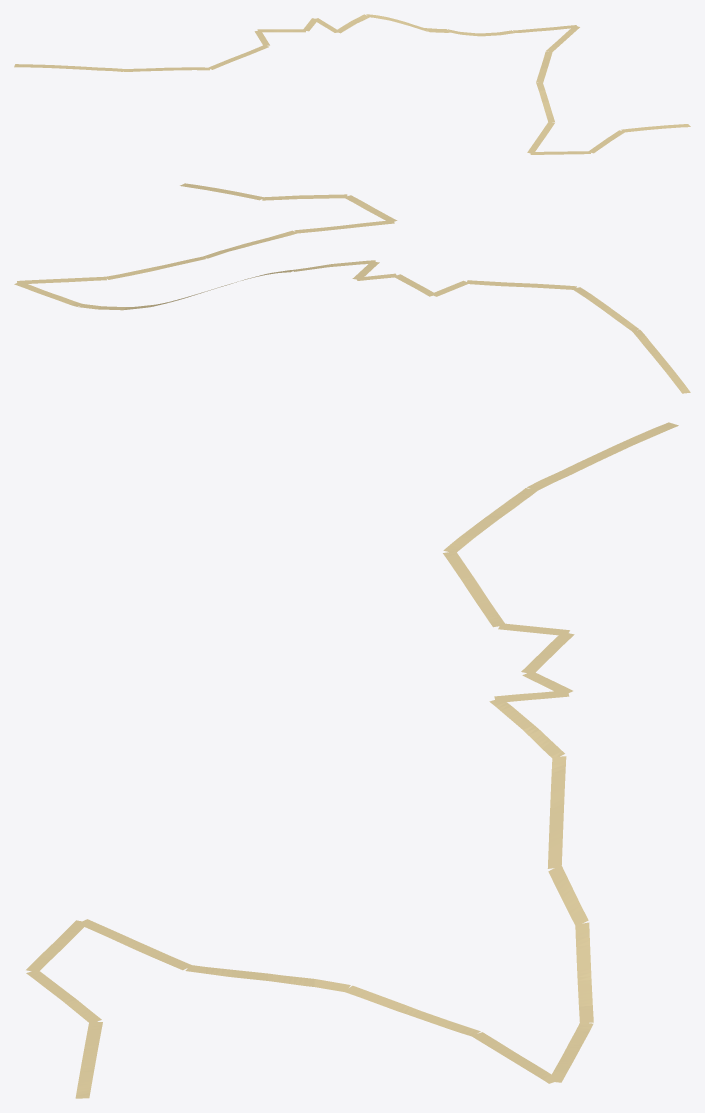
The model's file is Trail_03.glb.
The picture shows the model from 3 angles, top to bottom: view 1: azimuth 30°, elevation 25°; view 2: azimuth 150°, elevation 25°; view 3: azimuth 270°, elevation 25°; orthographic projection. The views are drawn at different scales.
Visible parts, largest first — view 1: Trail_03; view 2: Trail_03; view 3: Trail_03.
Part boxes in pixels (x1,y1,x2,y2): Trail_03: (14, 14, 690, 154); Trail_03: (14, 183, 690, 393); Trail_03: (26, 422, 678, 1098).
Size of the model in its own units: 155 by 23.42 by 81.98.
